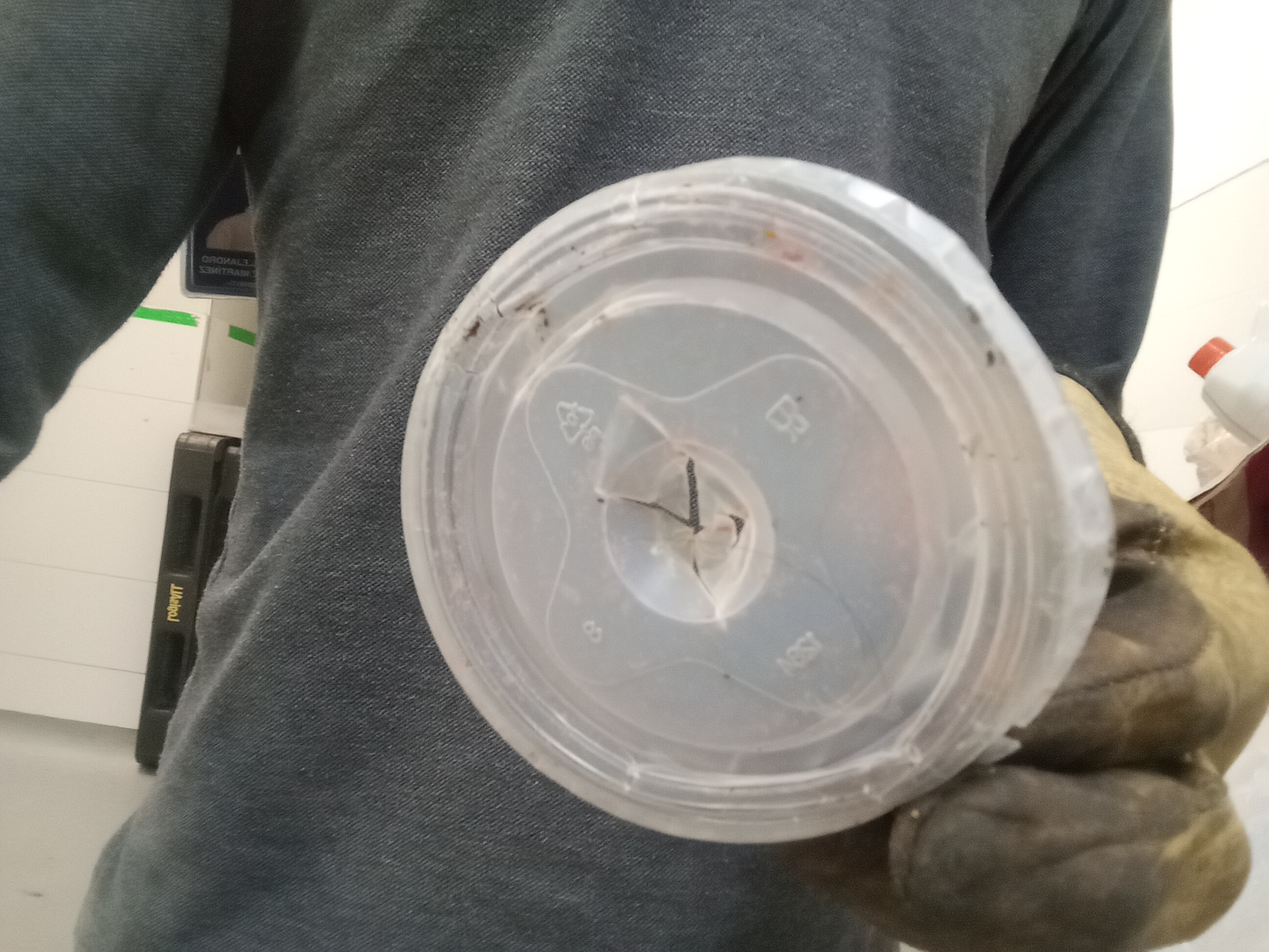Plastico: (401, 153, 1112, 844)
